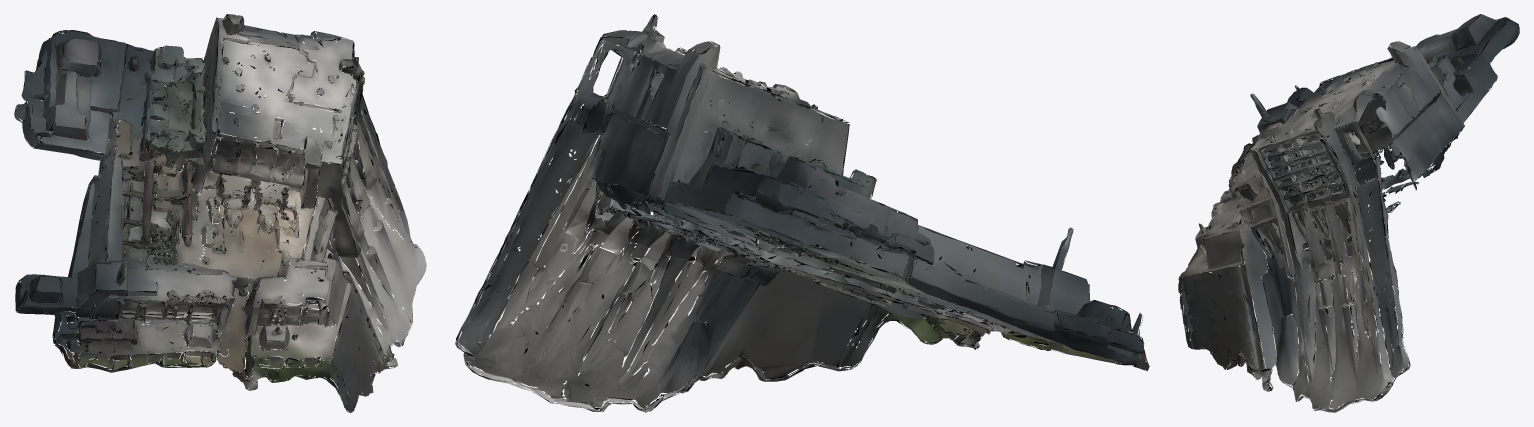
Rendered from morak-refinery.hq.glb.
The picture shows the model from 3 angles, left to right: view 1: azimuth 30°, elevation 25°; view 2: azimuth 150°, elevation 25°; view 3: azimuth 270°, elevation 25°; orthographic projection. The views are drawn at different scales.
Visible parts, largest first — view 1: low; view 2: low; view 3: low.
Boxes of the visible parts, x1=… form: low: x1=14, y1=14, x2=426, y2=412; low: x1=455, y1=14, x2=1149, y2=412; low: x1=1178, y1=14, x2=1519, y2=412.
Size of the model in its own units: 0.9305 by 0.6548 by 0.6471.
Materials: 1 (1 with a texture image).
